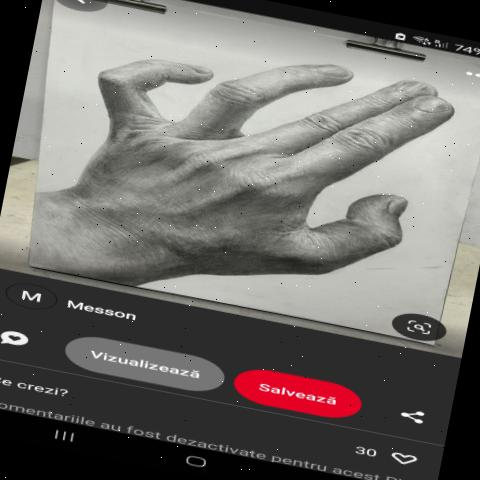hands: (51, 0, 468, 339)
